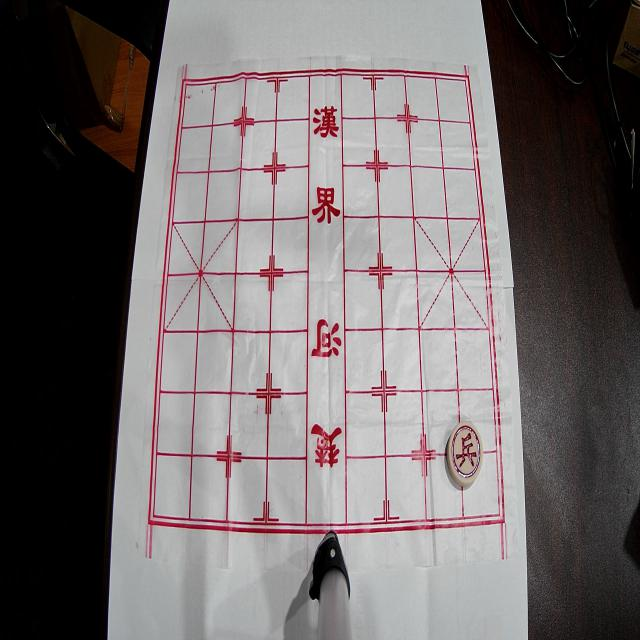red-soldier: (447, 421, 483, 487)
